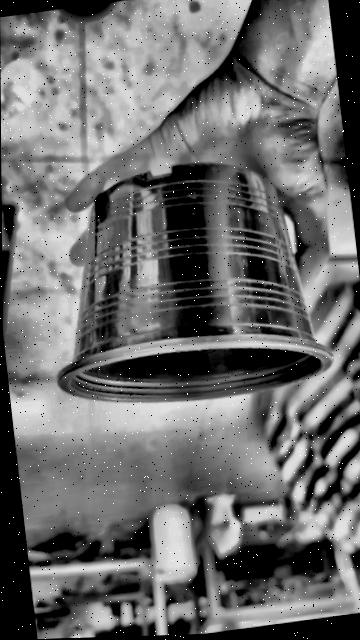pot: (59, 164, 333, 402)
